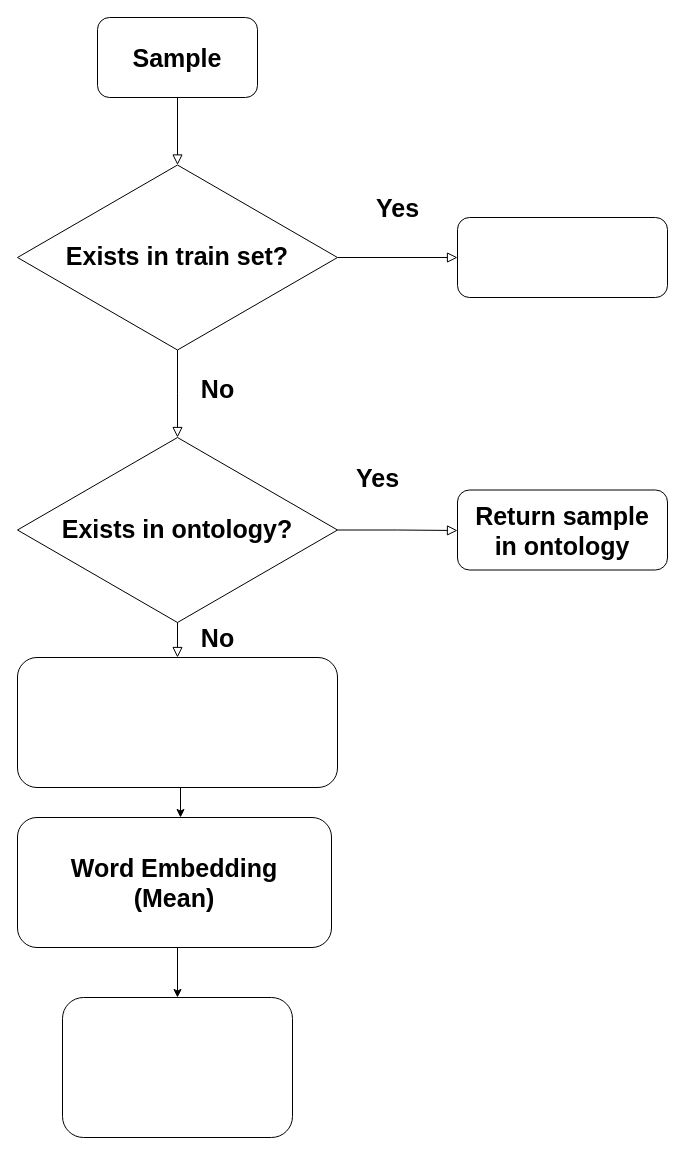
The diagram is 685 pixels wide and 1155 high, and some of its shapes have lost their labels. Each missing label, with the box of its shape:
Most Similar Term in Train &Ontology: (62, 996, 292, 1138)
Return sample in train set: (456, 216, 668, 298)
Rules: (16, 656, 338, 788)
